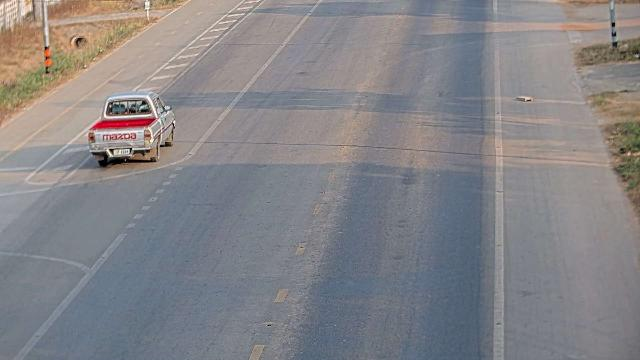pickup-truck: (87, 89, 176, 166)
